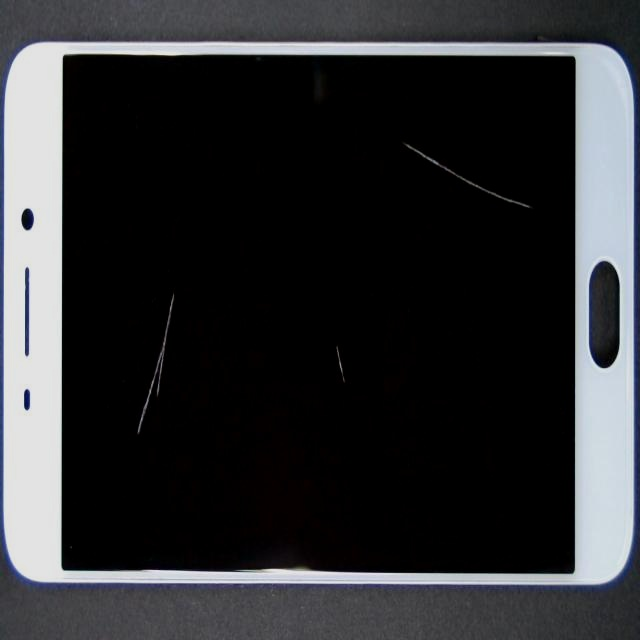scratch: (169, 139, 496, 501), (113, 50, 236, 503), (339, 146, 640, 261)
